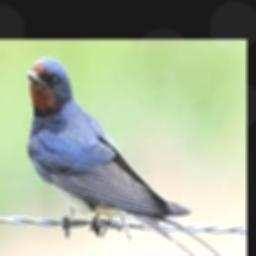Swallow: (26, 57, 230, 256)
